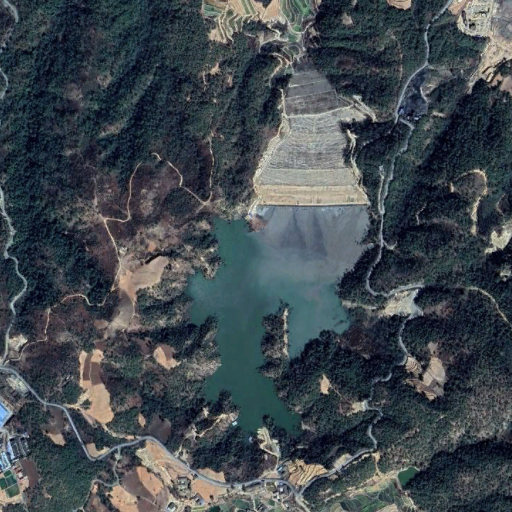tp: (182, 59, 372, 431)
